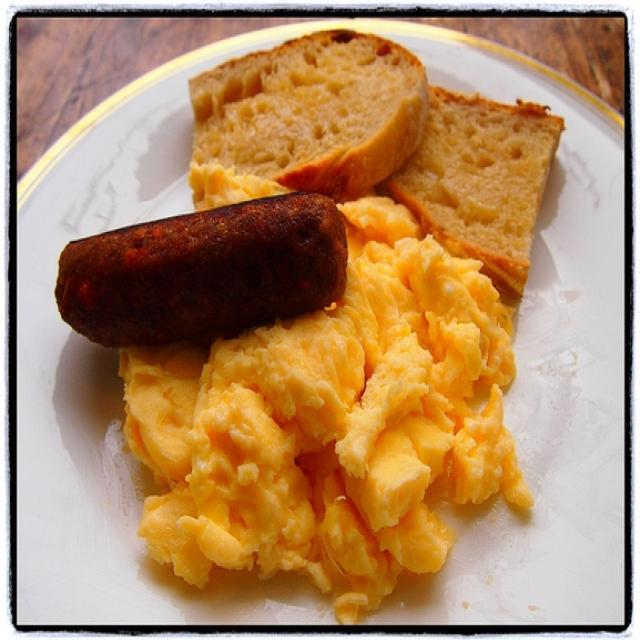鸡蛋料理: (106, 178, 522, 592)
